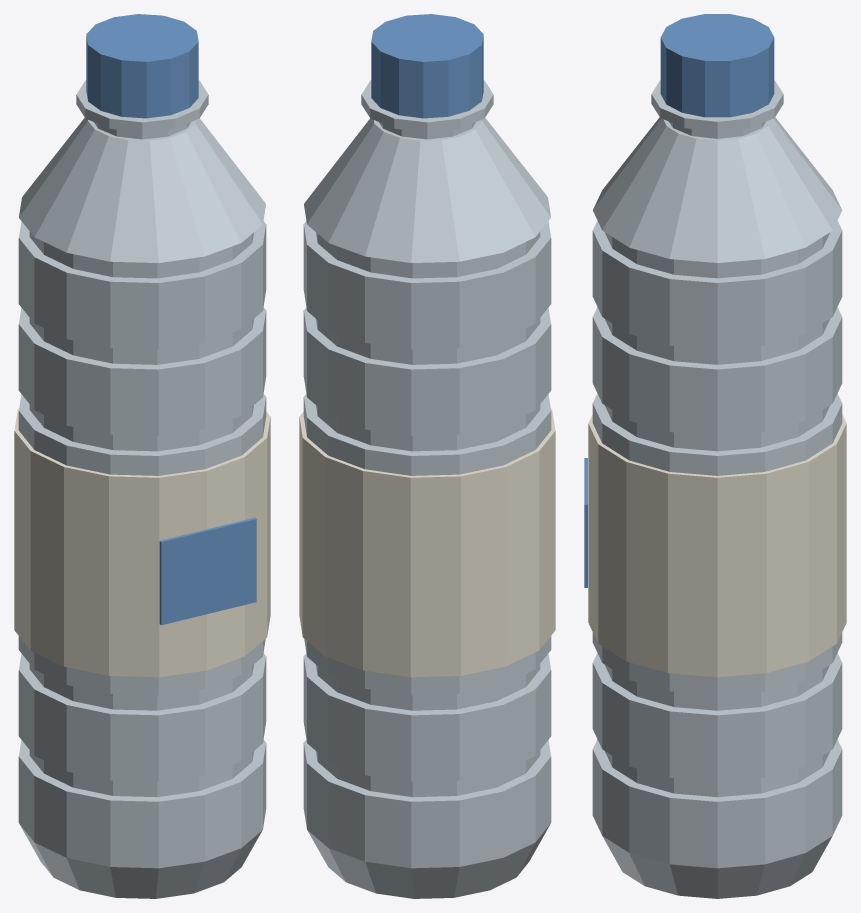
File: supply_water.glb
The picture shows the model from 3 angles, left to right: view 1: azimuth 30°, elevation 25°; view 2: azimuth 150°, elevation 25°; view 3: azimuth 270°, elevation 25°; orthographic projection.
Visible parts, largest first — view 1: WaterBottle; view 2: WaterBottle; view 3: WaterBottle.
Boxes of the visible parts, x1,y1,x2,y2 form: WaterBottle: [14, 14, 270, 898]; WaterBottle: [299, 14, 555, 898]; WaterBottle: [584, 14, 846, 898].
Bounding box in the file's own units: 0.0704 × 0.246 × 0.0715.
